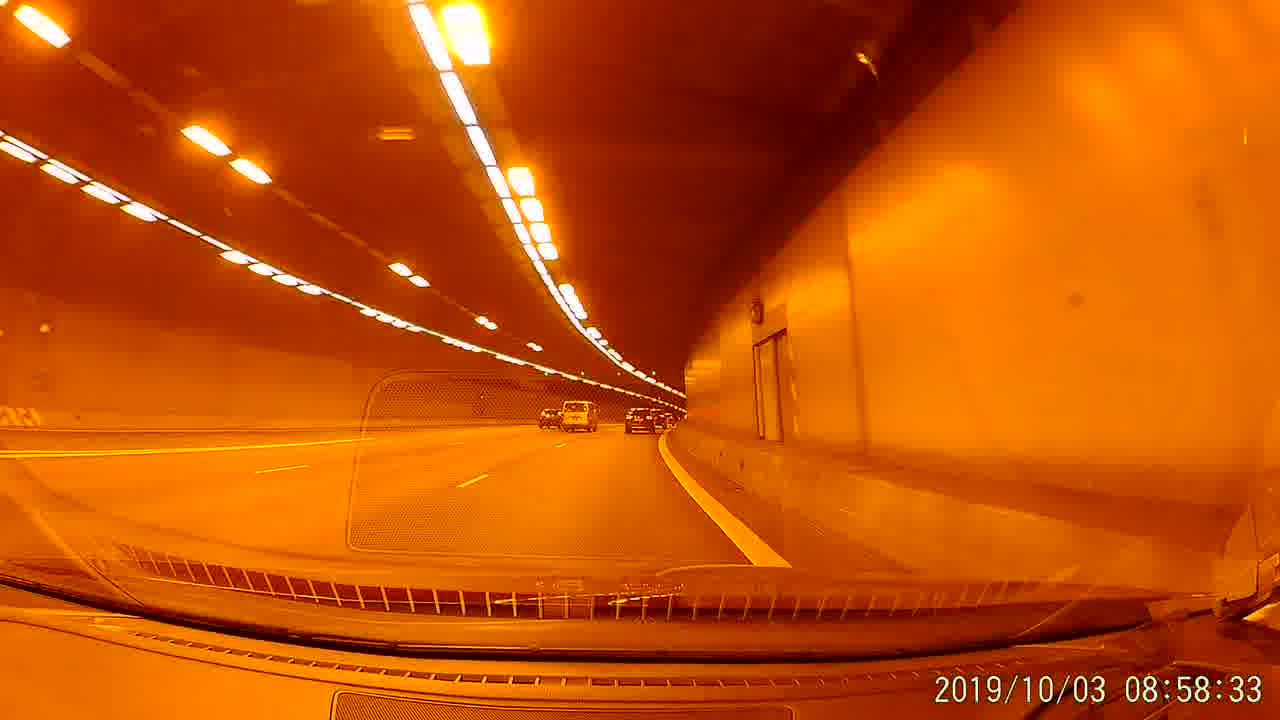car: (621, 404, 659, 434), (537, 406, 563, 430), (649, 406, 668, 432)
